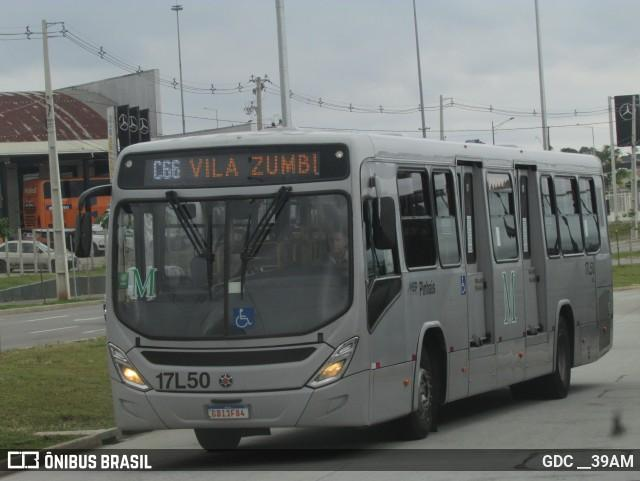VILA ZUMBI: (184, 151, 324, 182)
